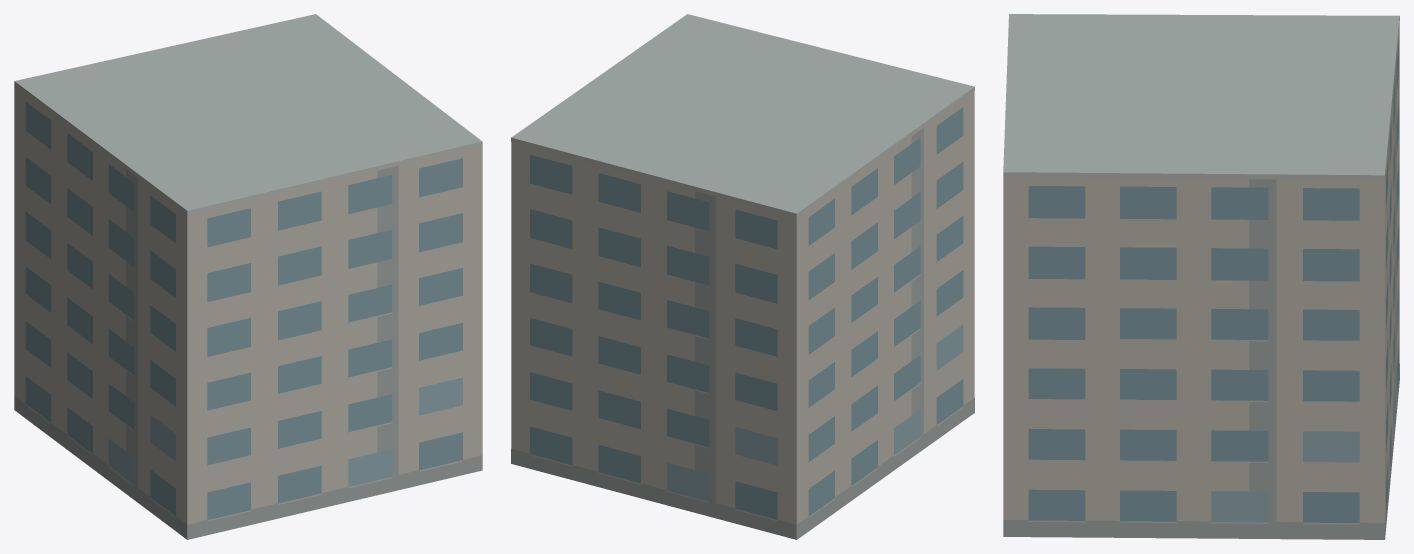
File: survey-upis-32935410.glb
3 renders of one model, left to right at view 1: azimuth 30°, elevation 25°; view 2: azimuth 150°, elevation 25°; view 3: azimuth 270°, elevation 25°, orthographic. The views are drawn at different scales.
Visible parts, largest first — view 1: survey-upis-32935410.tmp; view 2: survey-upis-32935410.tmp; view 3: survey-upis-32935410.tmp.
Part boxes in pixels (x1,y1,x2,y2): survey-upis-32935410.tmp: (14,14,482,539); survey-upis-32935410.tmp: (511,14,974,539); survey-upis-32935410.tmp: (1003,14,1399,539).
Bounding box in the file's own units: 16.89 × 17.8 × 17.55.
